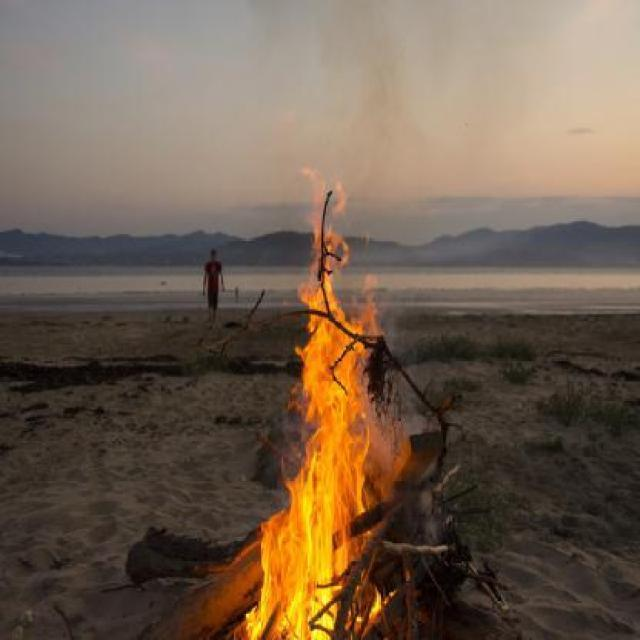Fire: (250, 278, 374, 640)
